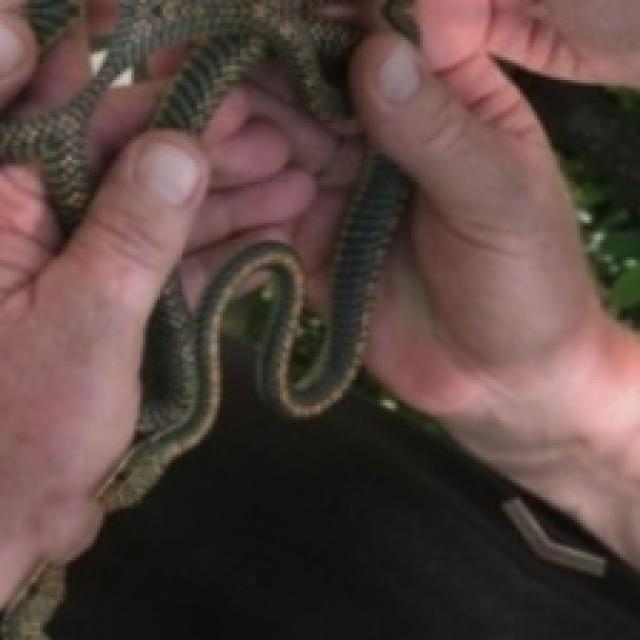paradise tree snake: (0, 0, 409, 637), (0, 0, 409, 509)
